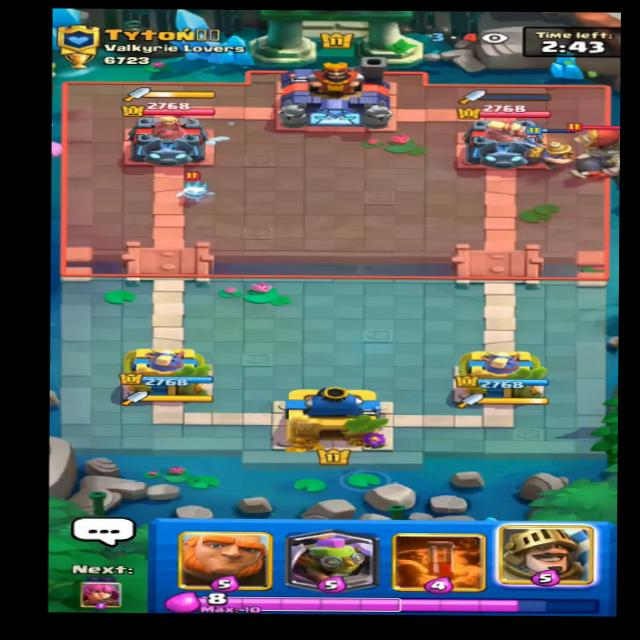giant-skeleton: (553, 119, 639, 177)
ice-spirit: (172, 175, 213, 202)
